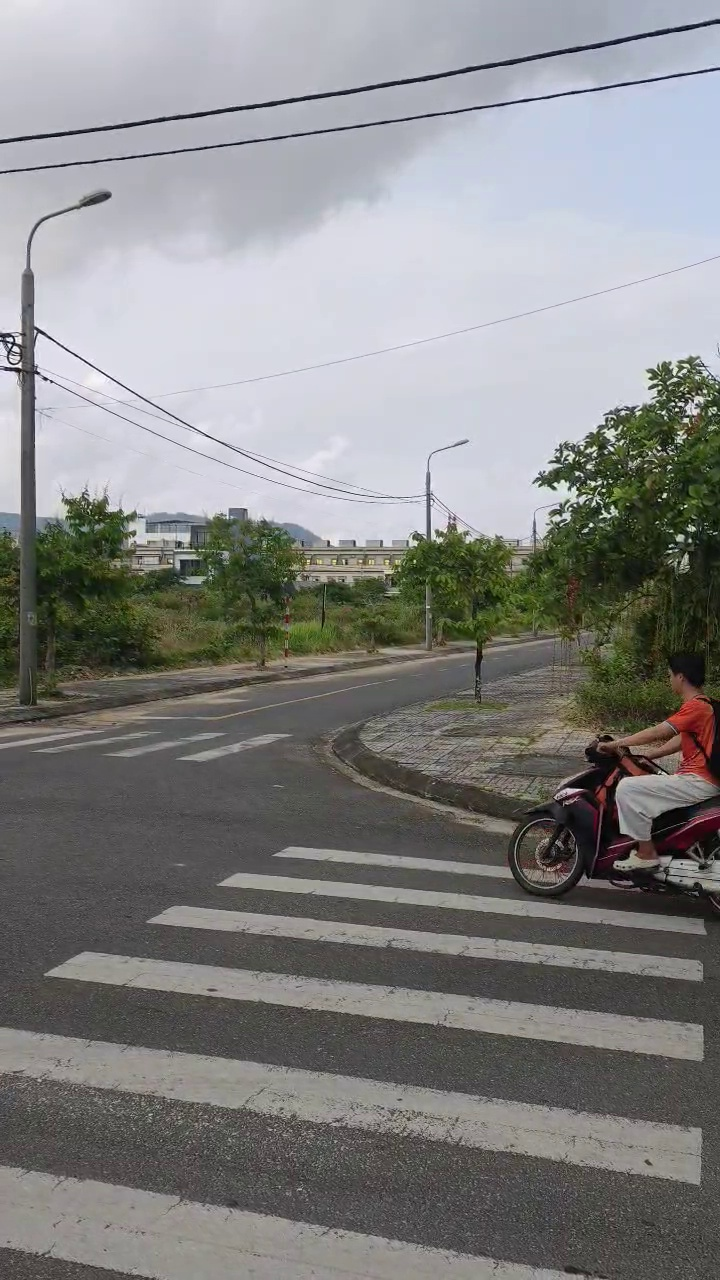no_helmet: (666, 651, 707, 712)
